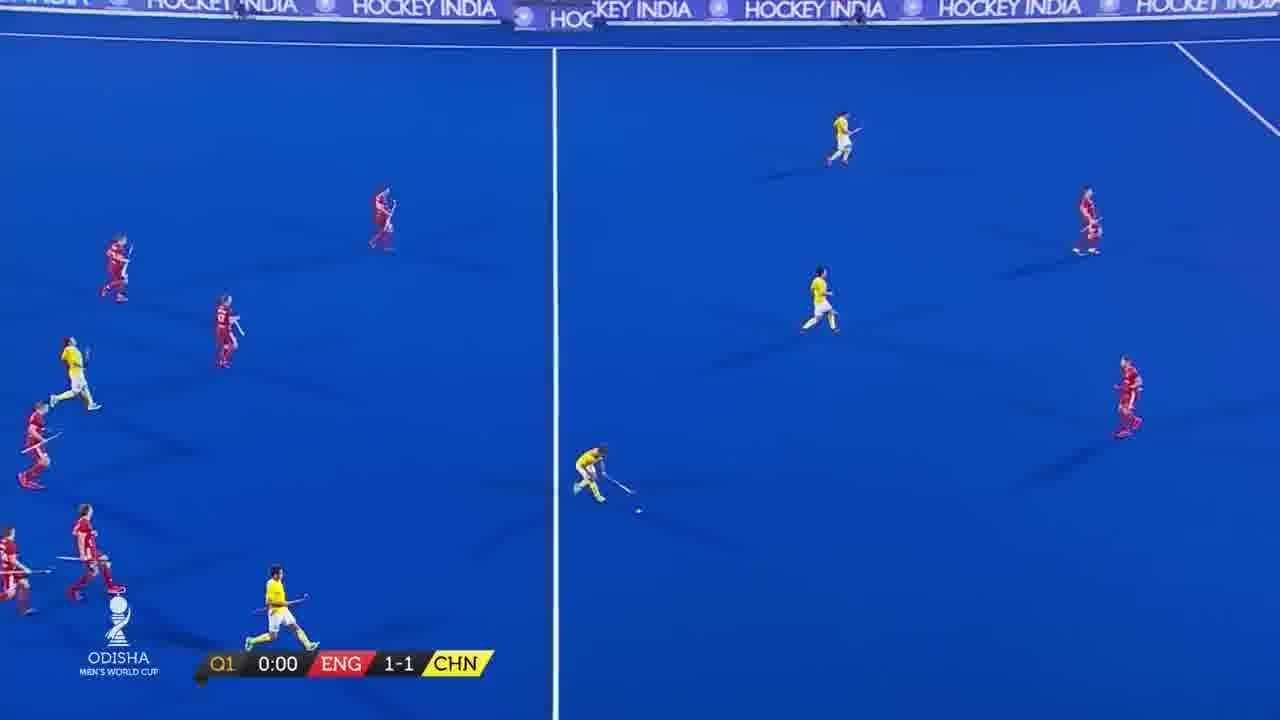ball: (631, 500, 650, 522)
